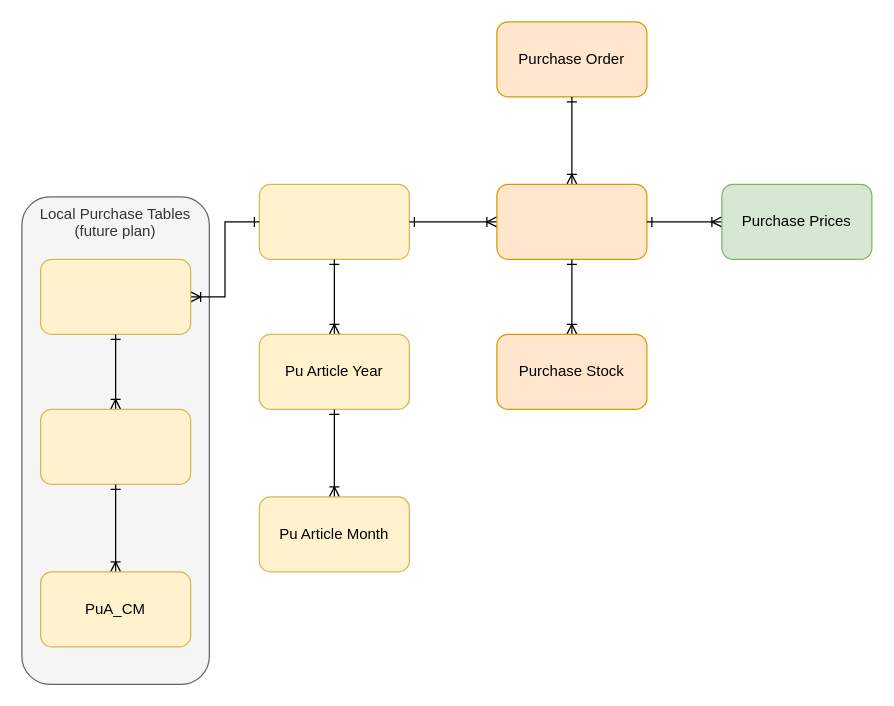
The diagram is 894 pixels wide and 706 high, and some of its shapes have lost their labels. Here are the shapes that lost their labels. From the top down, the centre of each, then its label:
At [333,221]: "Purchase Articles".
At [571,221]: "Purchase Item".
At [115,296]: "PuA_CT".
At [115,446]: "PuA_CY".
